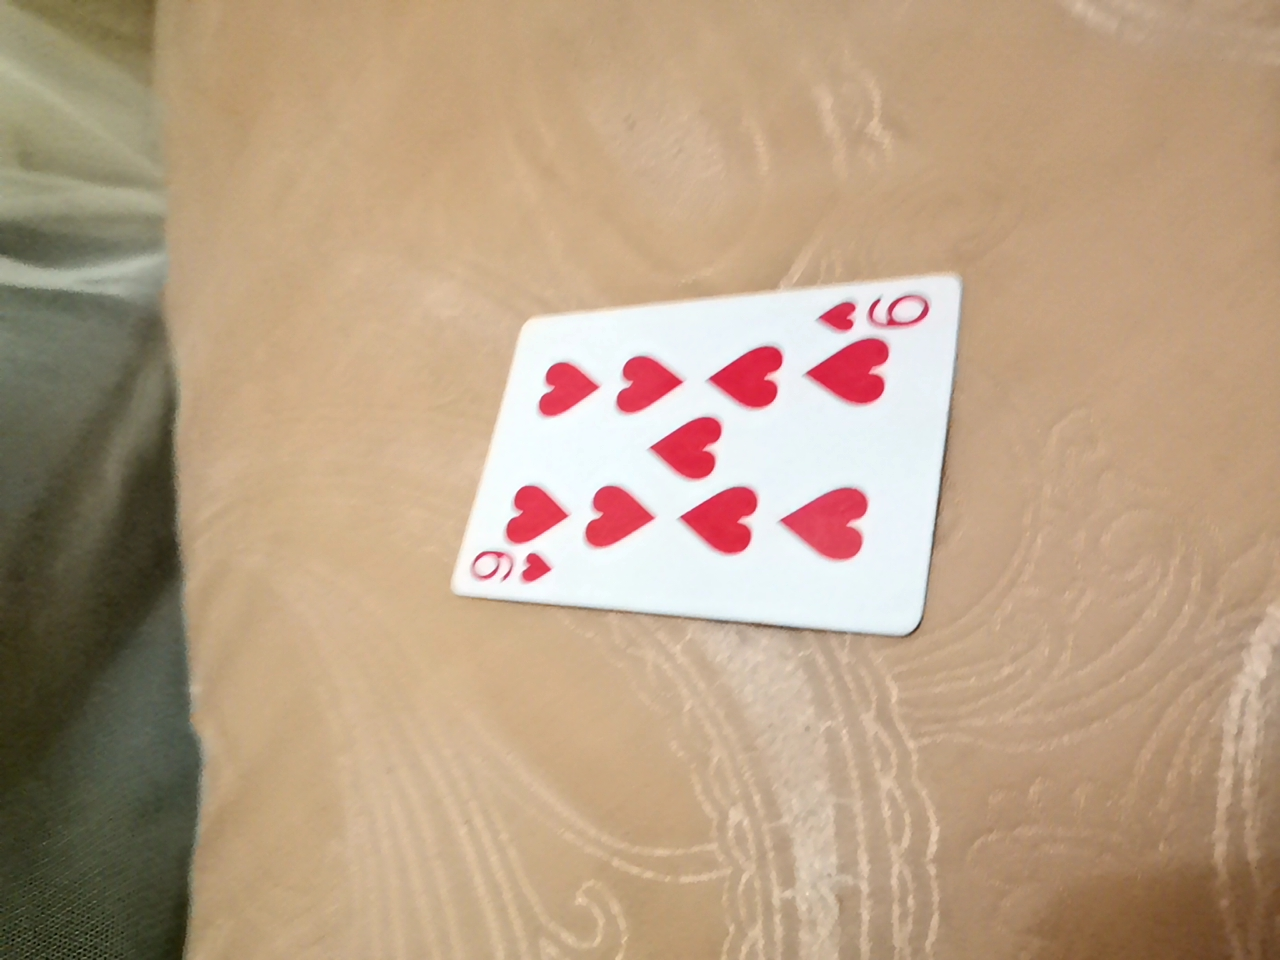hx 9: (494, 225, 981, 587)
